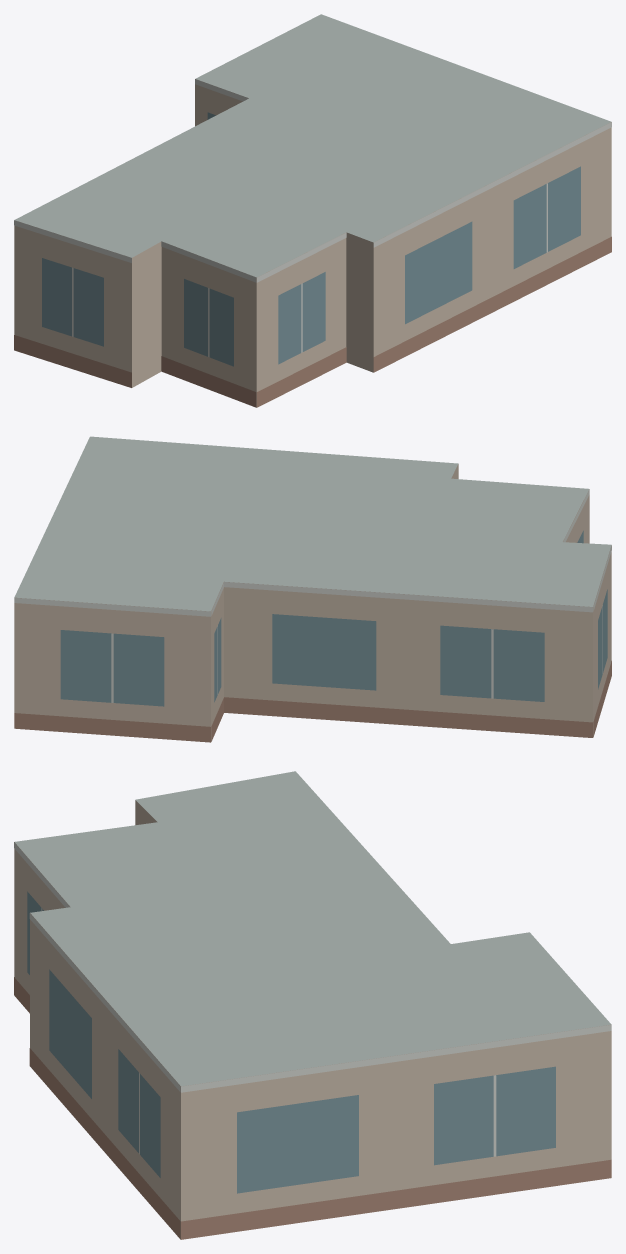
The model's file is survey-upis-32787651.glb.
3 views of the same model, one above another, from view 1: azimuth 30°, elevation 25°; view 2: azimuth 150°, elevation 25°; view 3: azimuth 270°, elevation 25° (orthographic). The views are drawn at different scales.
Parts seen in each view (by area): view 1: survey-upis-32787651.tmp; view 2: survey-upis-32787651.tmp; view 3: survey-upis-32787651.tmp.
Part boxes in pixels (box(x1,y1,x2,y2)): survey-upis-32787651.tmp: box(14, 14, 611, 407); survey-upis-32787651.tmp: box(14, 436, 611, 742); survey-upis-32787651.tmp: box(14, 771, 611, 1239).
Size of the model in its own units: 13.46 by 3.05 by 10.78.
